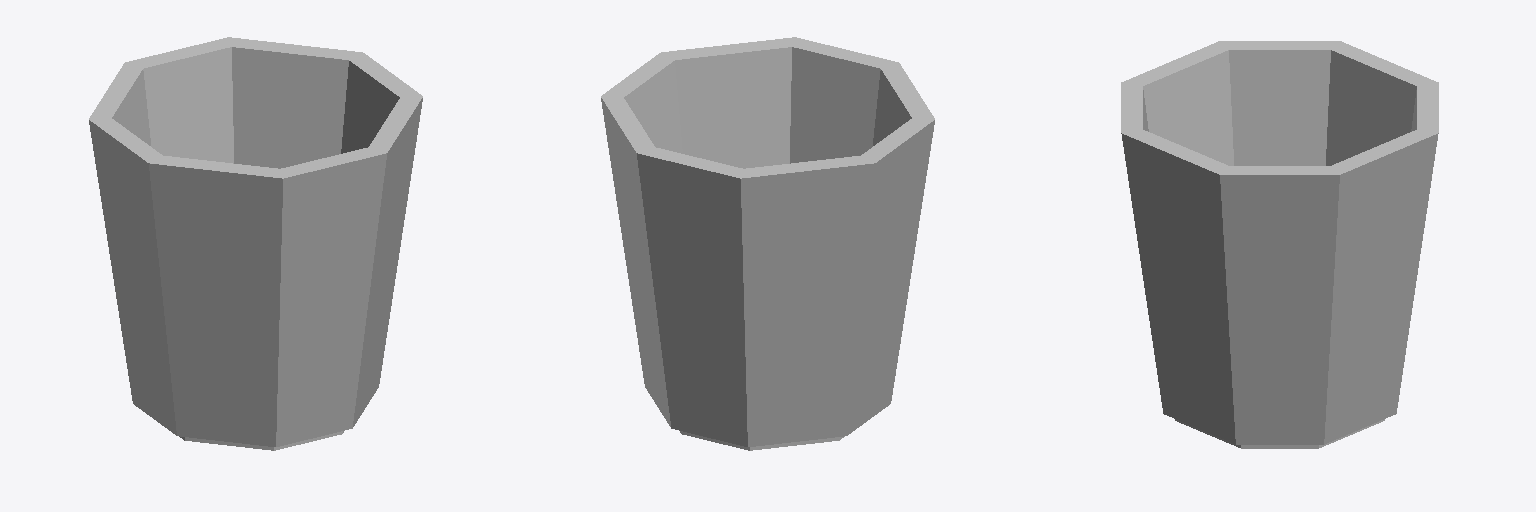
The model's file is cup2.obj.
3 renders of one model, left to right at view 1: azimuth 30°, elevation 25°; view 2: azimuth 150°, elevation 25°; view 3: azimuth 270°, elevation 25°, orthographic.
Visible parts, largest first — view 1: Cube.015; view 2: Cube.015; view 3: Cube.015.
Boxes of the visible parts, x1,y1,x2,y2 form: Cube.015: [89, 37, 422, 450]; Cube.015: [601, 37, 934, 450]; Cube.015: [1121, 41, 1438, 448].
Size of the model in its own units: 0.5299 by 0.5459 by 0.5299.